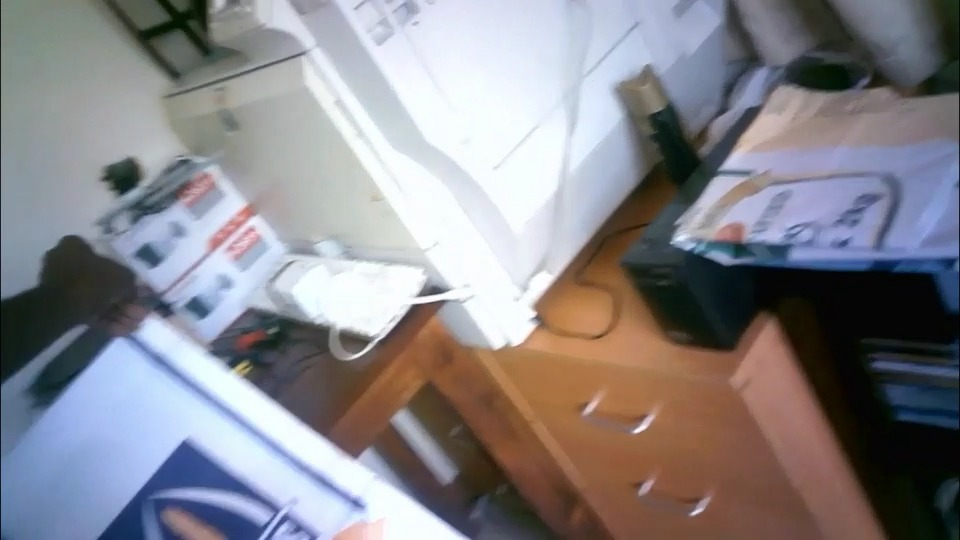wheat_flour_blue_label: (0, 328, 475, 540)
